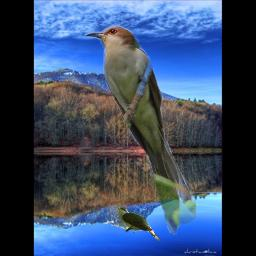Cuckoo: (85, 25, 196, 235), (115, 206, 161, 241)
